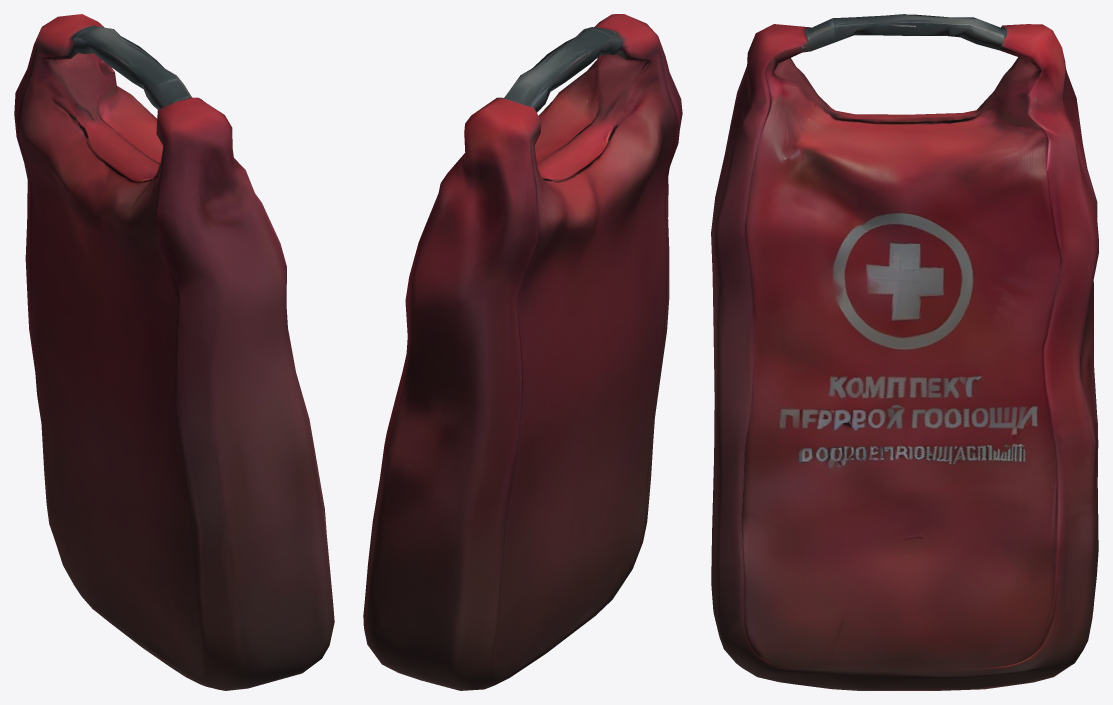
File: salewa.fbx
3 views of the same model, side by side, from view 1: azimuth 30°, elevation 25°; view 2: azimuth 150°, elevation 25°; view 3: azimuth 270°, elevation 25° (orthographic). The views are drawn at different scales.
Parts seen in each view (by area): view 1: tripo_node_c602fd9a; view 2: tripo_node_c602fd9a; view 3: tripo_node_c602fd9a.
Part boxes in pixels (x1=…): tripo_node_c602fd9a: x1=14, y1=14, x2=334, y2=690; tripo_node_c602fd9a: x1=363, y1=14, x2=682, y2=690; tripo_node_c602fd9a: x1=711, y1=14, x2=1098, y2=690.
Bounding box in the file's own units: 0.3222 × 1 × 0.5593.
